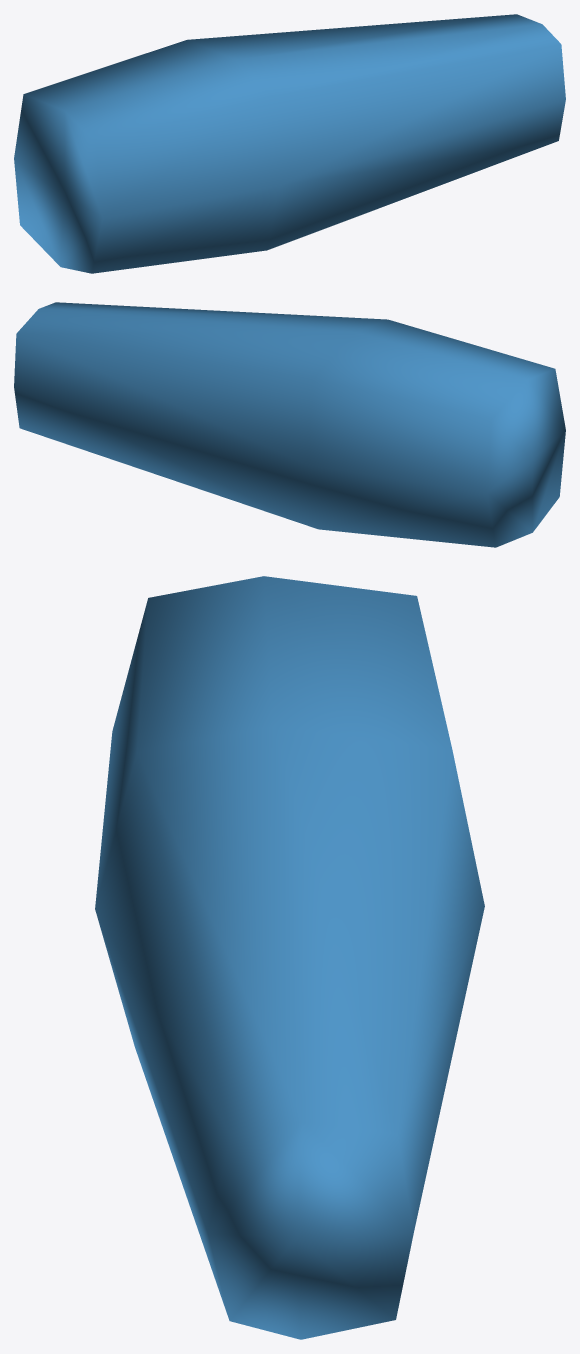
File: Driver_Arm_02B.fbx
3 views of the same model, one above another, from view 1: azimuth 30°, elevation 25°; view 2: azimuth 150°, elevation 25°; view 3: azimuth 270°, elevation 25° (orthographic). The views are drawn at different scales.
Parts seen in each view (by area): view 1: Driver_Arm_02B; view 2: Driver_Arm_02B; view 3: Driver_Arm_02B.
Part boxes in pixels (x1,y1,x2,y2): Driver_Arm_02B: (14, 14, 565, 273); Driver_Arm_02B: (14, 302, 565, 547); Driver_Arm_02B: (95, 576, 484, 1339).
Size of the model in its own units: 28.15 by 9.87 by 9.78.
